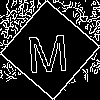M: (25, 25, 70, 73)
